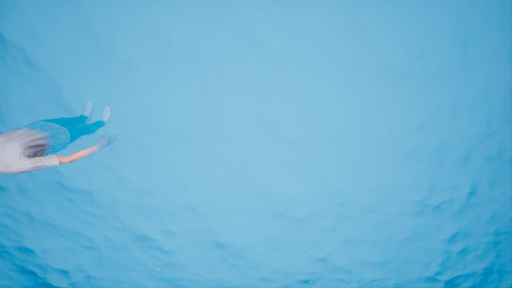person: (2, 109, 126, 185)
